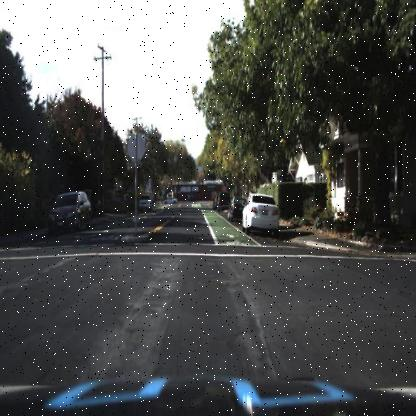car: (48, 189, 92, 234), (241, 191, 277, 236), (225, 195, 246, 223), (138, 192, 153, 212)
